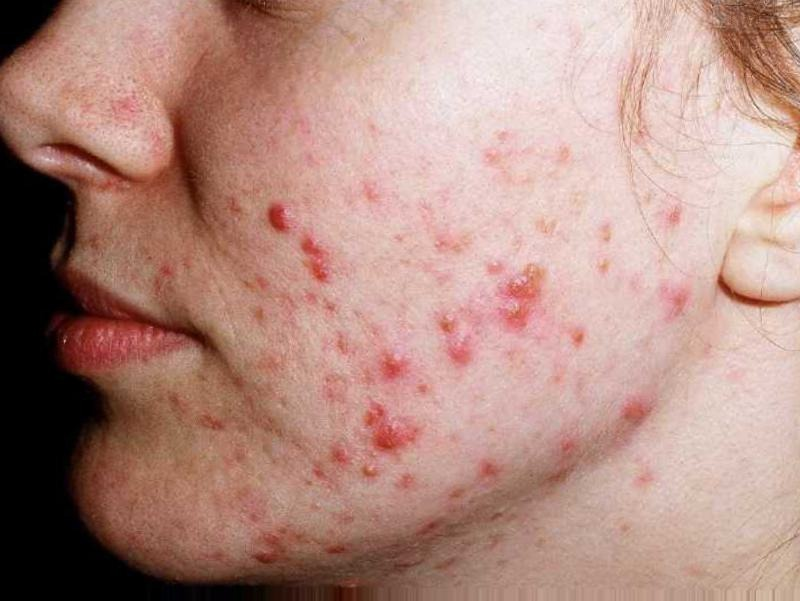Acne: (126, 178, 696, 584)
